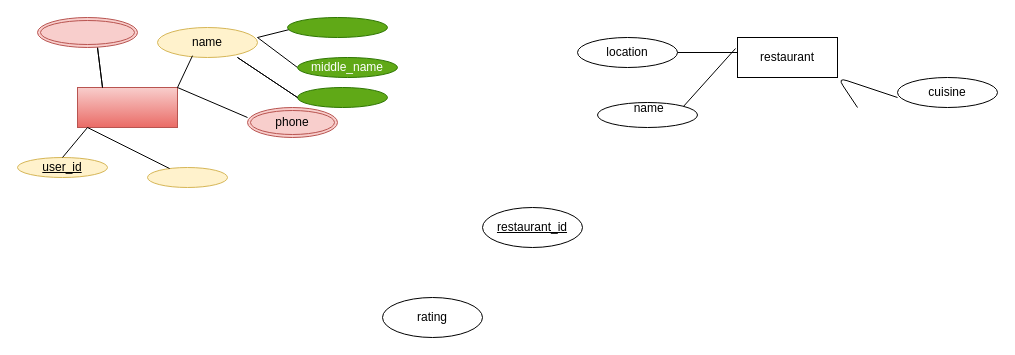
Image size: 1015x355. Some labels were removed from this diagram. The shapes that lost their labels are listed below. From the top down, each one's centre as x and y in pixels, then its label:
the point at 87,32: email
the point at 337,27: first_name
the point at 127,107: user
the point at 342,97: last_name
the point at 187,177: address
